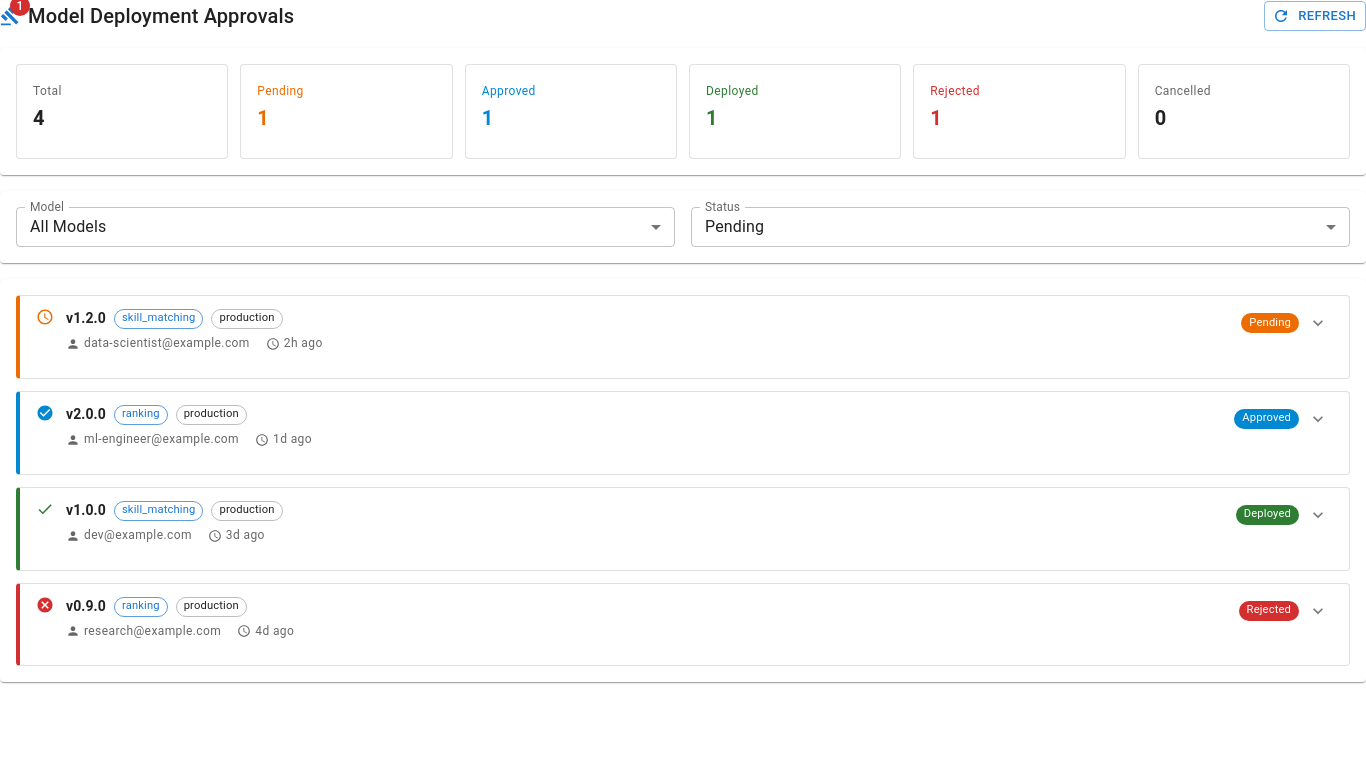
Test case: ModelApprovalPanel › Approve Action › opens approve dialog when approve button is clicked
Check: the heading "v1.2.0" is shown, box top-left (66, 308), bottom-right (106, 330)
Click the button without text in the row of "2h ago". click: (1318, 323)
box: top-left (1303, 308), bottom-right (1333, 338)
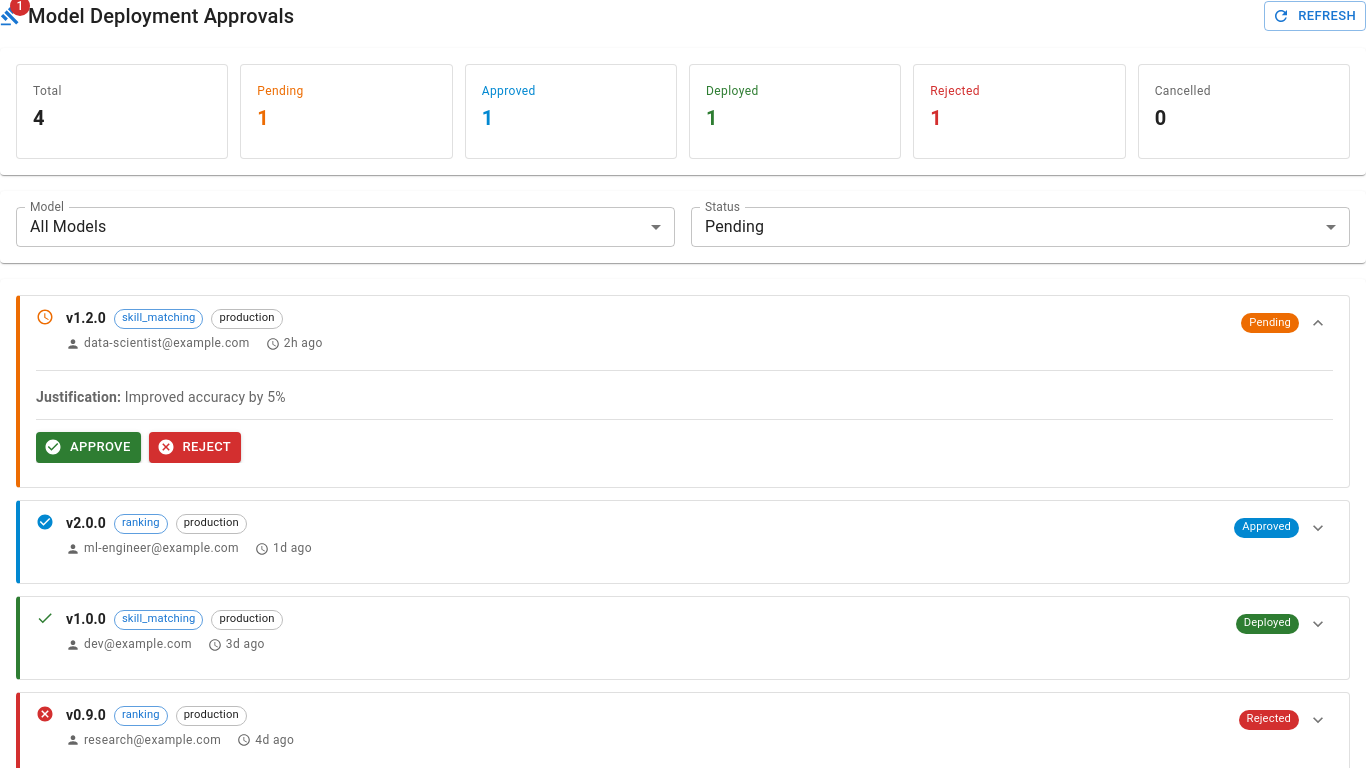
Check: the button "Approve" is shown
Click approve button
Click the button "Approve". click: (88, 447)
box: top-left (36, 432), bottom-right (141, 463)
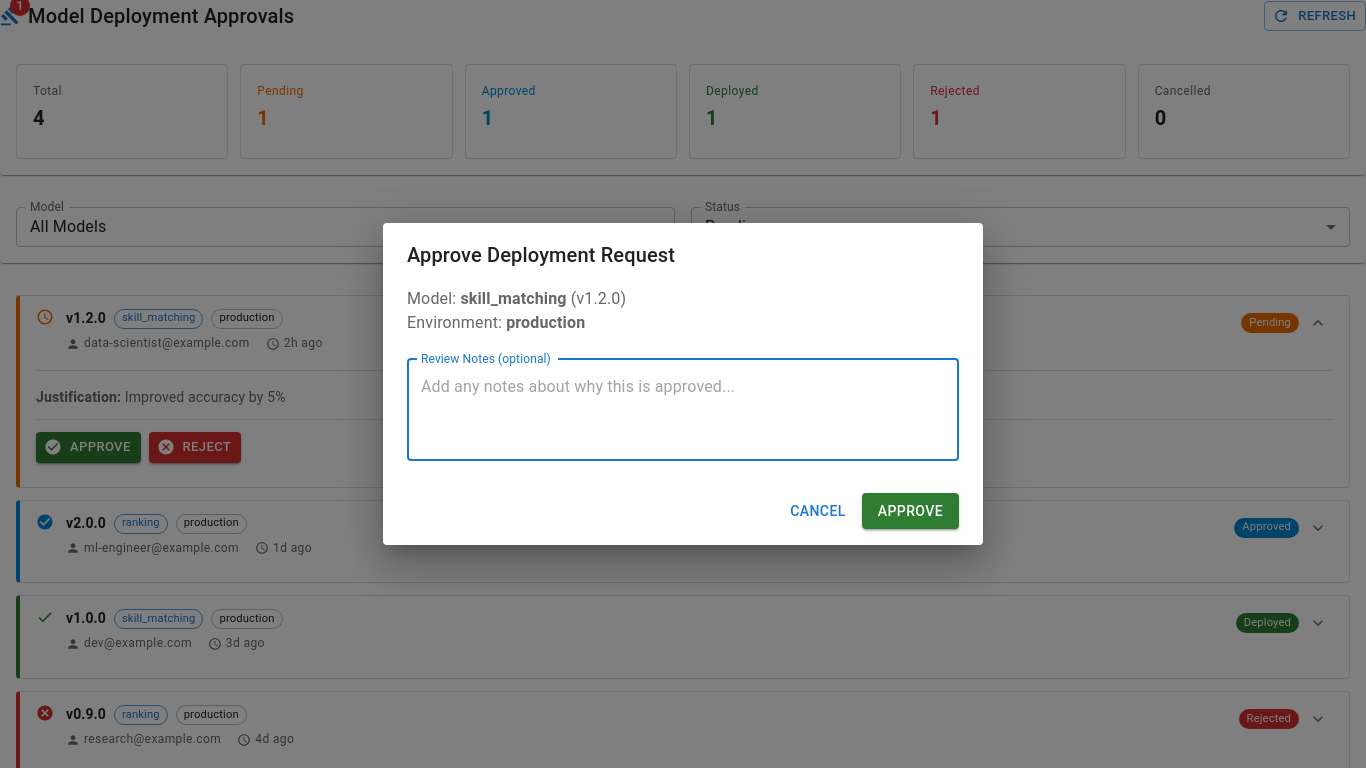
Check: the heading "Approve Deployment Request" is shown, box top-left (407, 243), bottom-right (675, 267)
